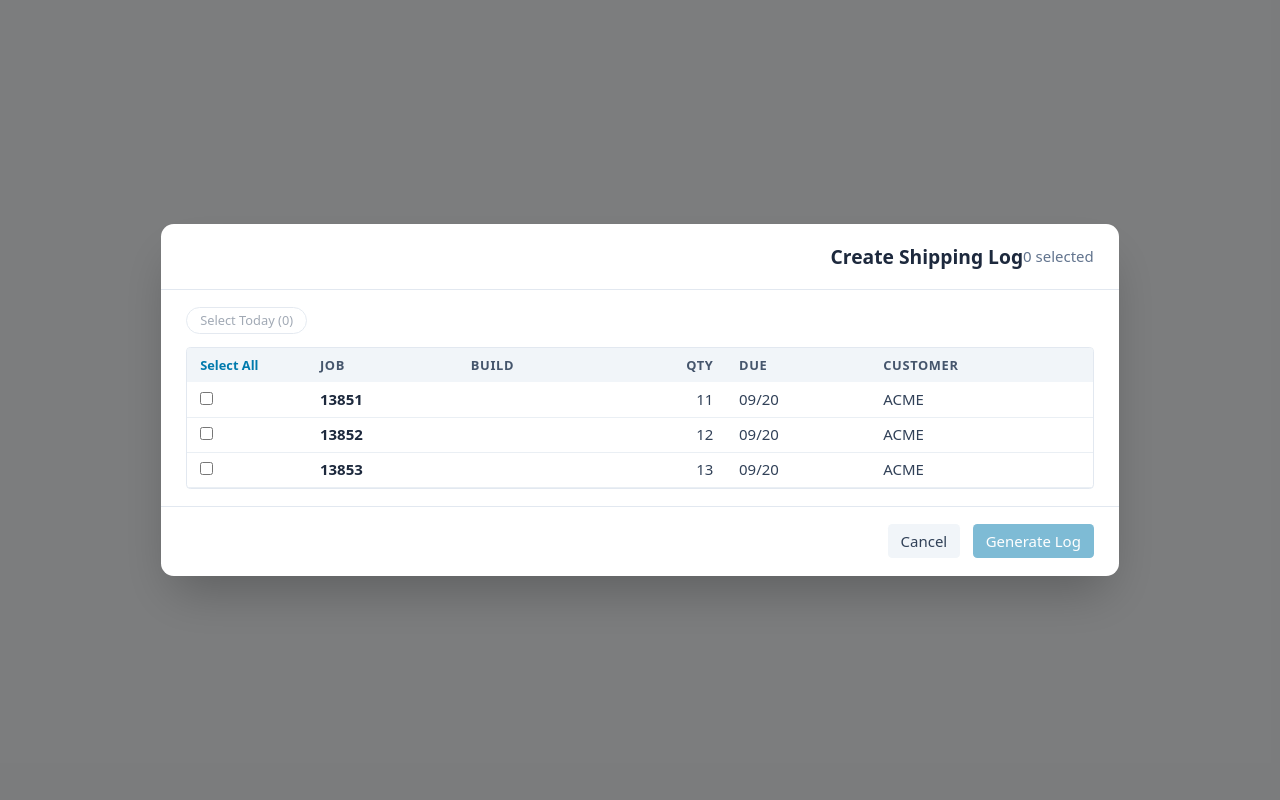
Test: CreateShippingLogModal › disables Generate above the server max and shows n / max
Click the button with test id "shipping-log-toggle-all". click: (229, 365)
box: [200,357,258,374]
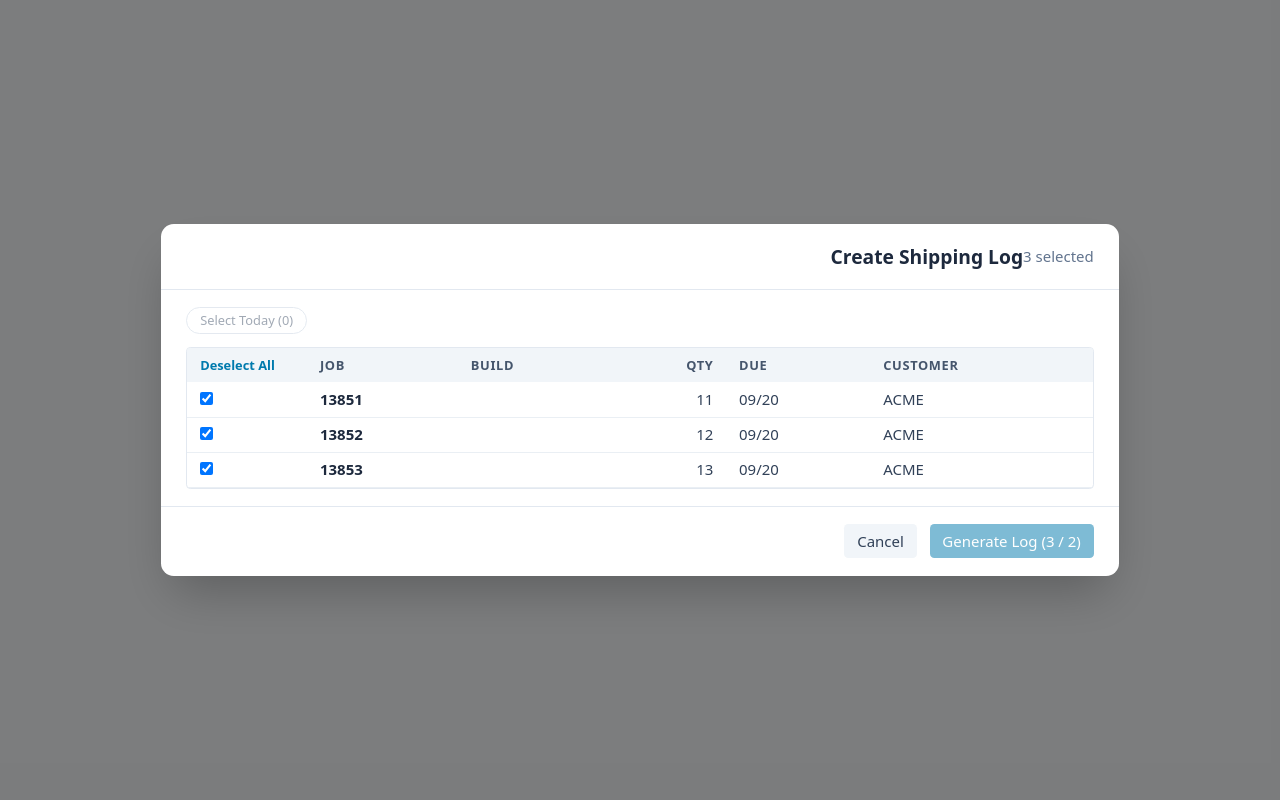
Expected: the button with test id "shipping-log-generate" is disabled, [930,524,1094,558]
Expected: the button with test id "shipping-log-generate" reads "Generate Log (3 / 2)", [930,524,1094,558]
